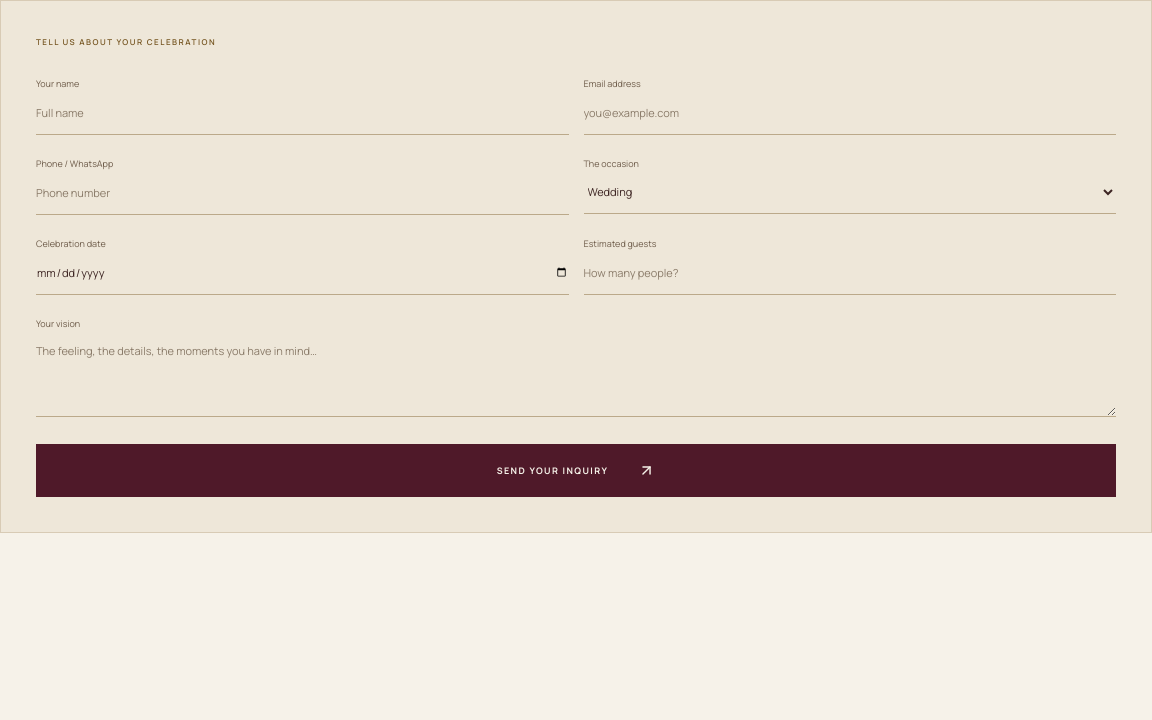
posts all inquiry fields and visitor reply-to email, resets only after confirmed success
Step 1. Type "Test Visitor" into the field labelled "Your name" → (302, 112), box [36,90,568,135]
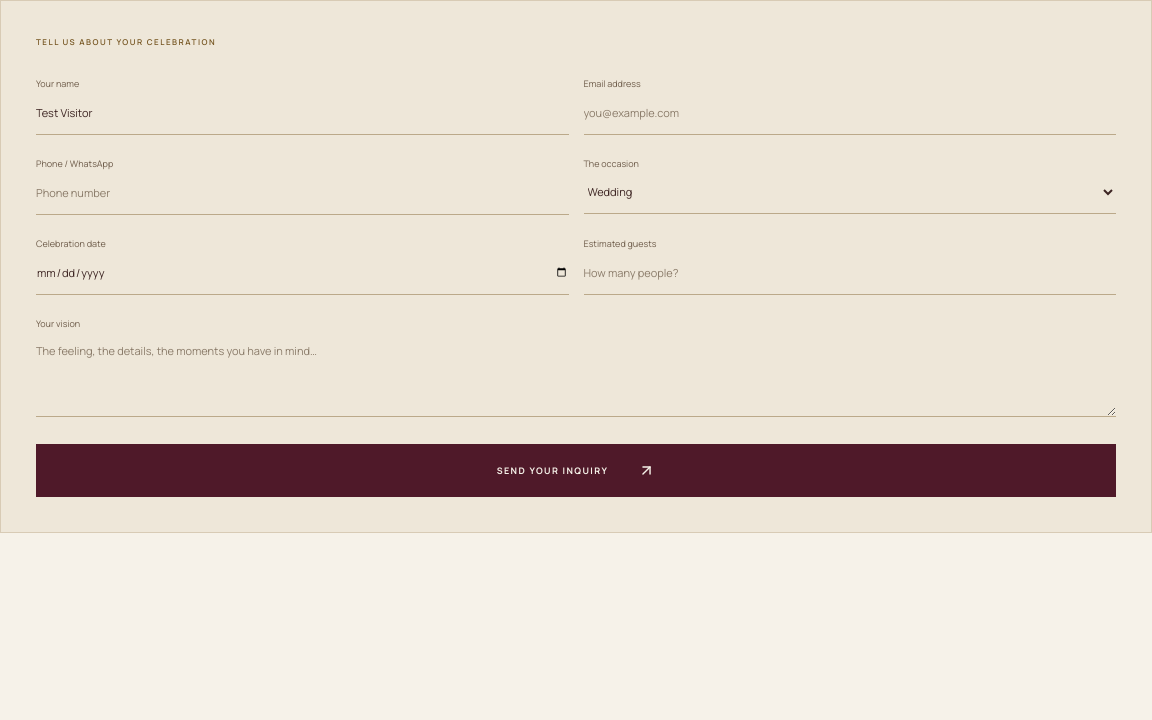
Step 2. Type "visitor@example.com" into the field labelled "Email address" → (850, 112), box [584,90,1116,135]
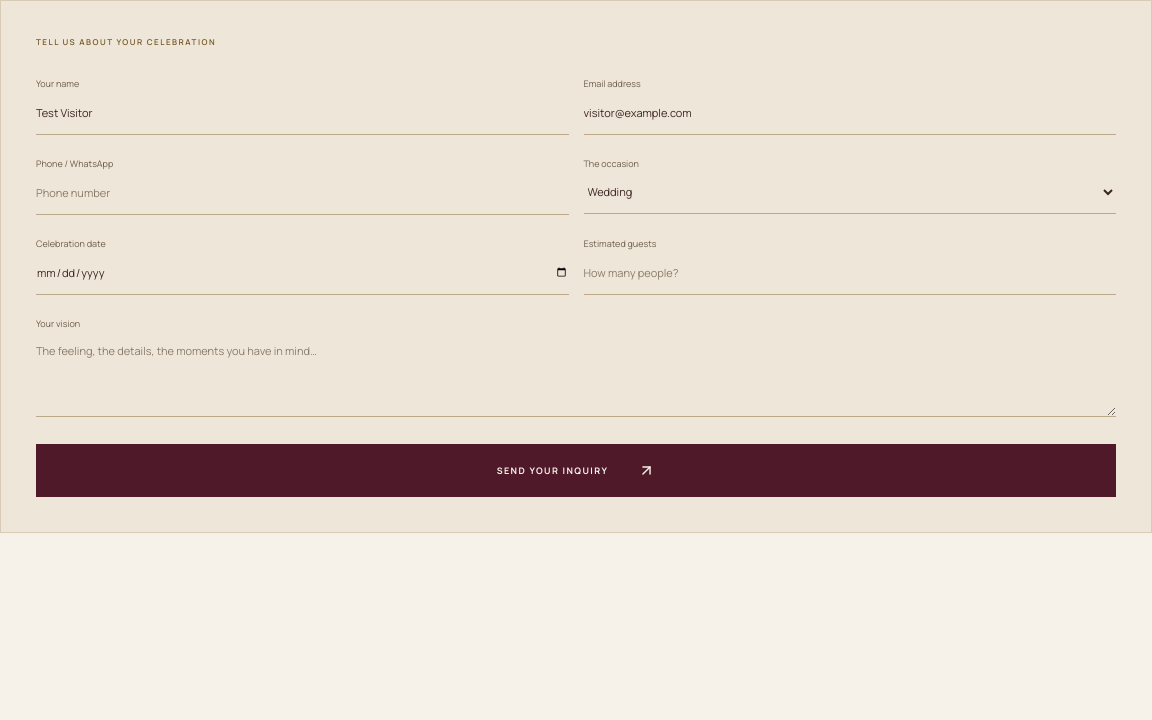
Step 3. Type "Test celebration" into the text box labelled "Your vision" → (576, 374), box [36,330,1116,417]
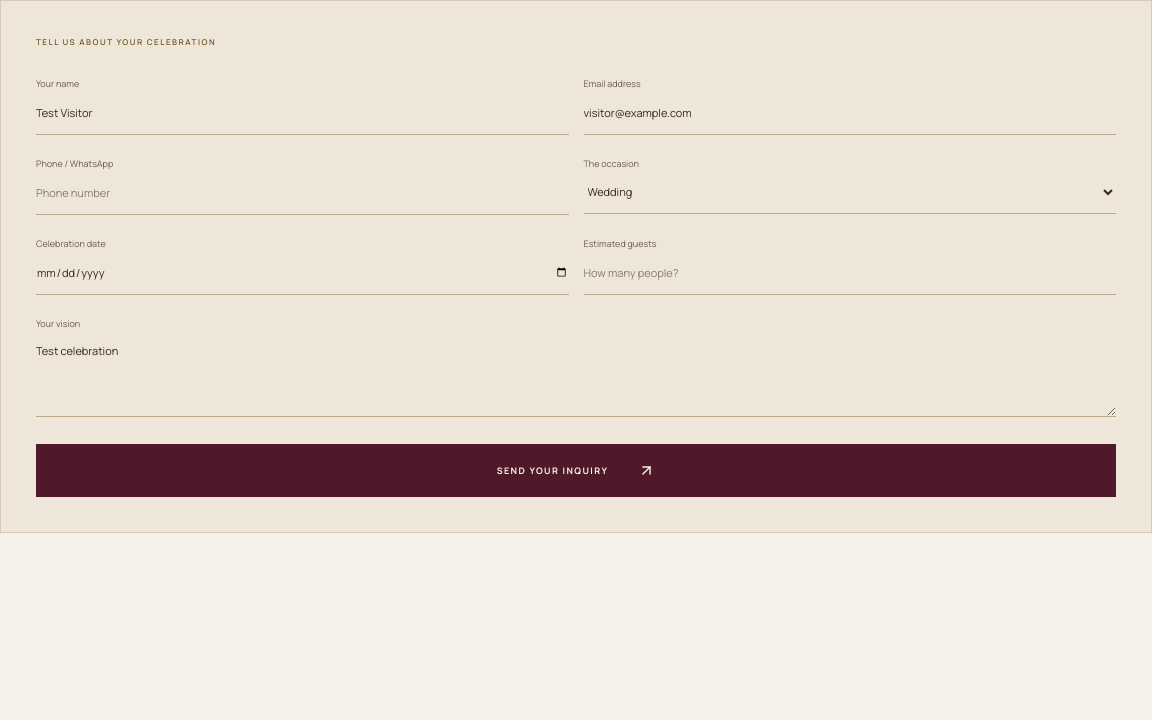
Step 4. Submit the form named "Send your inquiry"
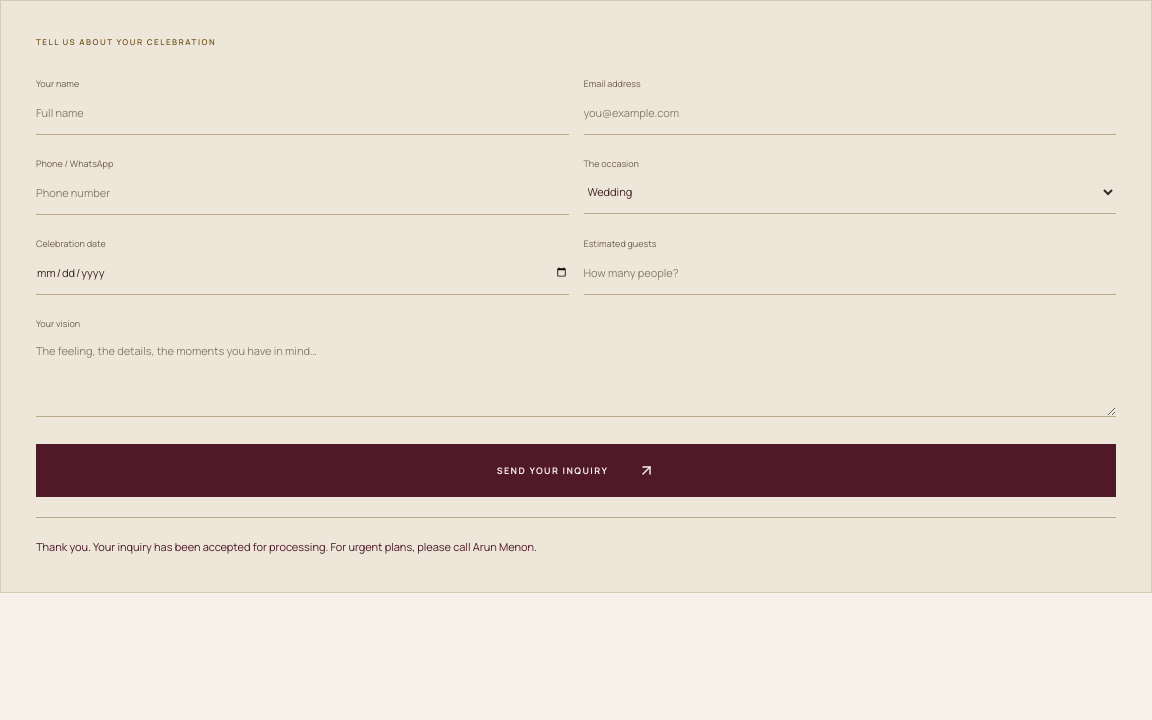
Result: the message shows "accepted for processing" at [36,539,537,554]
Result: the field labelled "Your name" is empty at [36,90,568,135]
